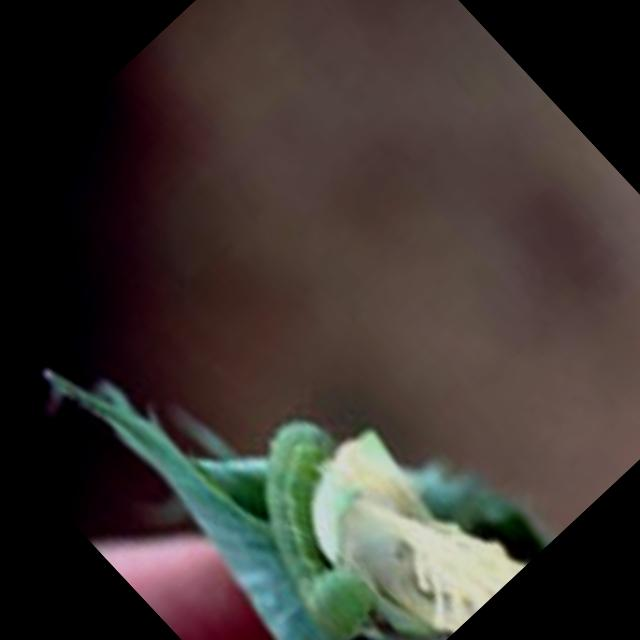Beet armyworm: (156, 372, 438, 640)
